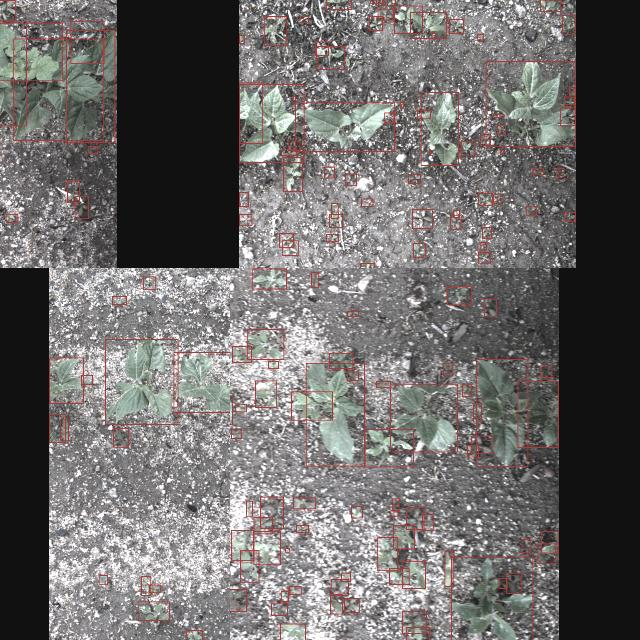crop: (13, 38, 103, 140), (485, 61, 575, 146), (104, 338, 178, 424), (306, 362, 364, 466), (477, 358, 528, 466), (66, 29, 114, 142), (238, 84, 304, 162), (294, 102, 394, 152), (389, 383, 457, 451), (173, 352, 230, 412), (420, 92, 458, 164), (0, 22, 26, 125), (518, 381, 558, 447), (48, 358, 84, 402), (238, 82, 262, 142), (230, 396, 232, 424)
weed: (451, 555, 533, 640), (0, 22, 62, 80), (364, 428, 414, 466), (70, 20, 104, 62), (290, 391, 332, 419), (245, 329, 282, 359), (410, 12, 446, 38), (253, 530, 279, 564), (394, 5, 422, 33), (250, 268, 286, 288), (260, 497, 282, 528), (282, 157, 302, 191), (377, 536, 397, 570), (262, 16, 286, 44), (402, 560, 426, 588), (230, 530, 252, 560), (316, 46, 344, 68), (138, 600, 168, 620), (254, 379, 276, 406), (240, 550, 258, 582), (402, 611, 426, 633), (394, 524, 414, 548), (48, 414, 64, 442), (279, 623, 305, 640), (447, 286, 471, 304), (412, 208, 432, 228), (406, 507, 424, 529), (328, 352, 352, 368), (471, 435, 492, 453), (537, 543, 555, 563), (230, 588, 245, 610), (252, 517, 272, 533), (389, 567, 409, 583), (542, 532, 558, 552), (405, 627, 429, 640), (74, 196, 88, 218), (66, 180, 80, 202), (506, 572, 520, 594), (112, 428, 128, 447), (560, 107, 576, 125), (232, 346, 250, 362), (444, 550, 452, 586), (330, 578, 348, 594), (0, 0, 14, 20), (562, 14, 574, 34), (329, 593, 341, 613), (539, 0, 560, 11), (461, 140, 475, 156), (448, 19, 464, 33), (292, 498, 314, 508), (484, 298, 496, 316), (325, 0, 350, 8), (282, 240, 296, 254), (278, 233, 292, 247), (328, 213, 342, 227), (314, 41, 328, 55), (368, 16, 382, 30), (344, 598, 358, 612), (271, 602, 287, 614), (140, 576, 150, 594), (412, 242, 424, 256), (478, 192, 492, 204), (378, 8, 392, 20), (142, 276, 156, 288), (60, 418, 68, 439), (185, 630, 201, 640), (422, 513, 432, 529), (238, 213, 252, 224), (344, 173, 356, 185), (473, 403, 481, 421), (540, 364, 552, 376), (450, 215, 460, 229), (238, 192, 248, 206), (442, 362, 452, 376), (467, 444, 478, 456), (330, 202, 338, 218), (351, 507, 362, 518), (478, 252, 490, 262), (481, 226, 491, 238), (480, 133, 490, 145), (324, 166, 334, 178), (80, 374, 92, 384), (112, 296, 126, 304), (310, 272, 318, 286), (522, 538, 530, 552), (347, 370, 358, 380), (462, 384, 471, 396), (416, 110, 429, 118), (565, 211, 575, 221), (288, 140, 298, 150), (384, 112, 394, 122), (230, 428, 240, 438), (340, 572, 350, 582), (5, 213, 17, 221), (360, 198, 372, 206), (280, 149, 296, 155), (408, 174, 420, 182), (148, 584, 160, 592), (234, 403, 246, 411), (245, 500, 251, 516), (295, 524, 307, 532), (288, 586, 300, 594), (326, 233, 338, 240), (376, 381, 390, 387), (87, 145, 97, 153), (526, 206, 536, 214), (556, 168, 564, 178), (564, 96, 574, 104), (98, 574, 106, 584), (280, 590, 288, 600), (499, 578, 507, 588), (268, 360, 278, 368), (359, 263, 374, 268), (532, 168, 544, 174), (497, 125, 505, 134), (392, 498, 398, 510), (347, 310, 358, 316), (493, 194, 501, 202), (298, 16, 308, 22), (479, 241, 486, 249), (569, 86, 575, 95), (238, 34, 244, 42), (390, 510, 398, 516), (453, 210, 459, 217), (386, 0, 394, 5), (370, 0, 382, 3), (376, 0, 383, 4), (478, 34, 482, 40), (284, 548, 290, 552), (493, 114, 503, 116), (500, 150, 504, 154), (428, 148, 430, 154), (432, 32, 434, 38), (400, 102, 402, 106), (292, 96, 294, 100)
